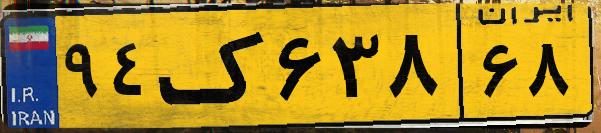3: (330, 28, 385, 110)
4: (110, 28, 158, 98)
6: (270, 28, 330, 110), (475, 38, 525, 113)
8: (385, 28, 445, 110), (525, 38, 570, 115)
9: (57, 26, 110, 100)
ک: (158, 12, 270, 120)
